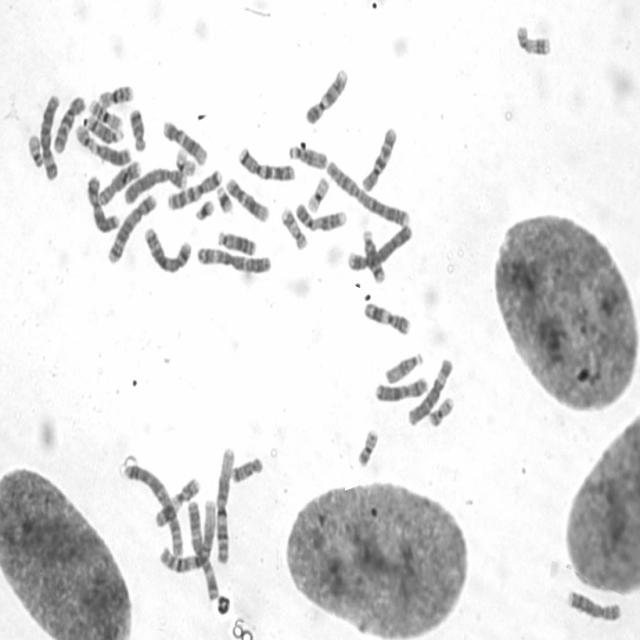A1: (155, 493, 218, 574), (212, 441, 236, 565)
A2: (322, 154, 412, 228), (120, 458, 184, 559)
A3: (184, 494, 220, 600), (193, 239, 273, 275)
B4: (344, 218, 414, 272), (120, 162, 188, 205)
B5: (103, 188, 158, 265), (140, 221, 193, 275)
C10: (357, 120, 399, 194), (49, 89, 87, 154)
C11: (151, 472, 202, 528), (360, 296, 412, 336)
C12: (158, 113, 208, 167), (222, 172, 270, 223)
C6: (404, 352, 454, 427), (36, 87, 62, 181)
C7: (164, 162, 224, 211), (234, 140, 297, 182)
C8: (563, 583, 623, 623), (95, 155, 142, 206)
C9: (301, 62, 349, 126), (291, 196, 347, 233)
D13: (214, 224, 258, 257), (89, 136, 131, 167)
D14: (359, 224, 387, 284), (81, 110, 125, 144)
D15: (381, 346, 425, 384), (285, 138, 329, 171)
E16: (85, 93, 124, 130), (94, 78, 134, 108)
E17: (277, 201, 309, 251), (512, 18, 553, 57)
E18: (228, 451, 264, 484), (125, 101, 147, 152)
F19: (302, 171, 330, 213), (172, 144, 197, 177)
F20: (353, 422, 380, 468), (424, 391, 456, 428)
G21: (212, 180, 235, 215), (191, 193, 216, 221)
G22: (24, 128, 45, 168), (72, 120, 95, 152)
X: (82, 169, 121, 234), (371, 371, 429, 404)
